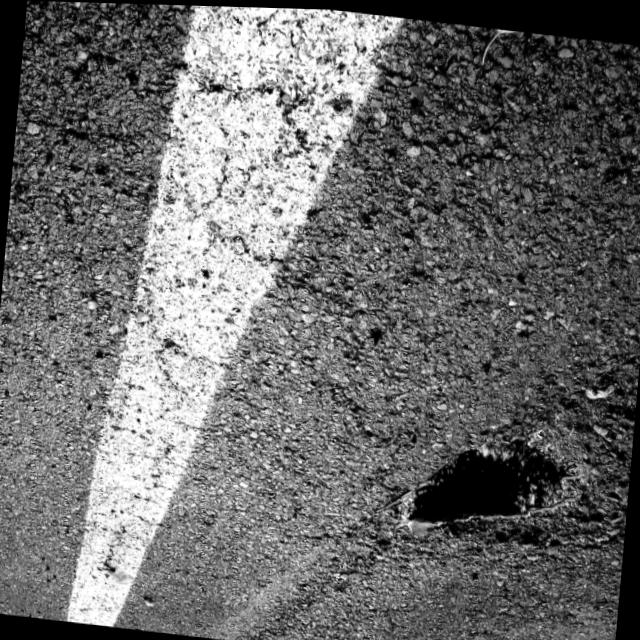pathole: (390, 439, 561, 534)
